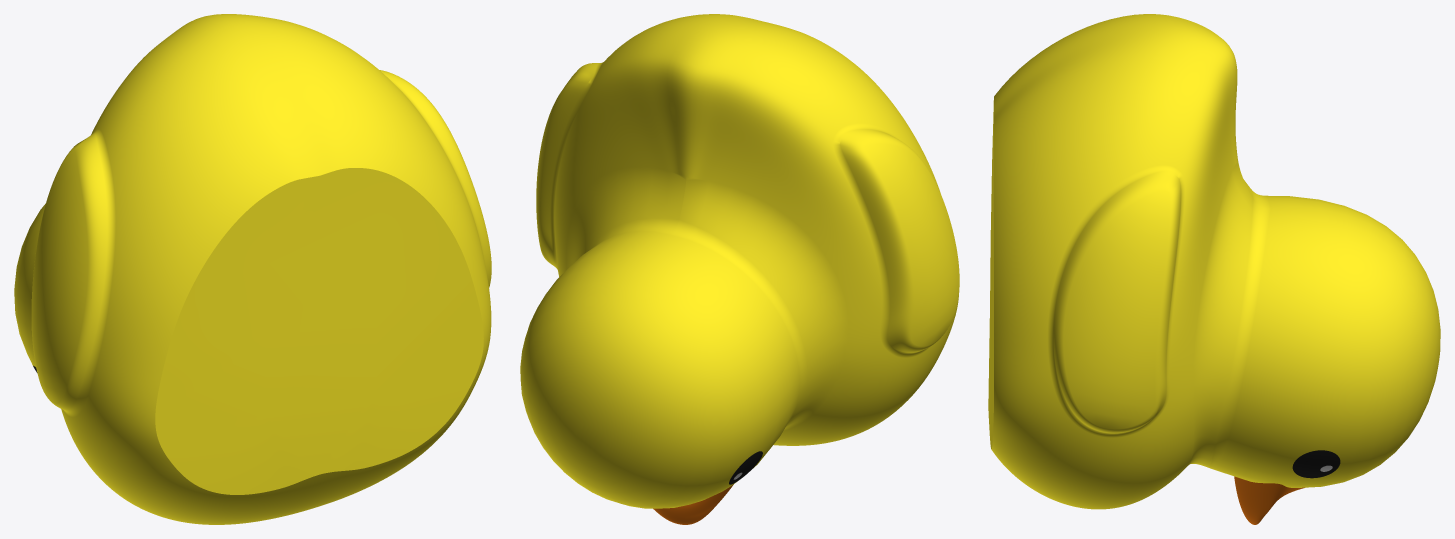
The model's file is duckie.dae.
3 views of the same model, side by side, from view 1: azimuth 30°, elevation 25°; view 2: azimuth 150°, elevation 25°; view 3: azimuth 270°, elevation 25° (orthographic). The views are drawn at different scales.
Visible parts, largest first — view 1: 6819c6c0c4b7da7a6bb63104; view 2: 6819c6c0c4b7da7a6bb63104; view 3: 6819c6c0c4b7da7a6bb63104.
Boxes of the visible parts, <box> form: 6819c6c0c4b7da7a6bb63104: <box>14,14,491,524</box>; 6819c6c0c4b7da7a6bb63104: <box>520,14,959,524</box>; 6819c6c0c4b7da7a6bb63104: <box>988,14,1440,524</box>.
Size of the model in its own units: 0.1211 by 0.113 by 0.1355.
